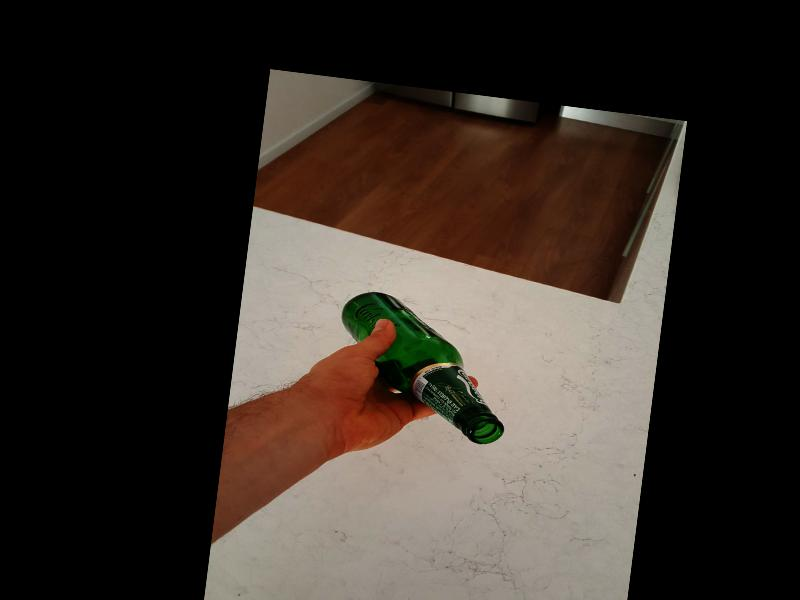Beer: (329, 289, 520, 449)
